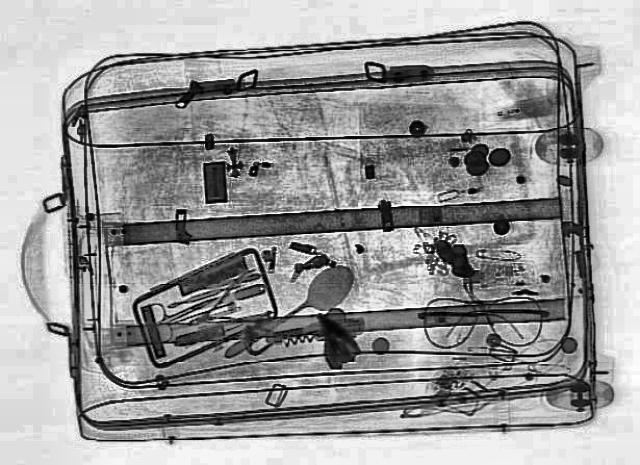Pliers: (172, 267, 288, 341)
Scissors: (125, 282, 233, 346)
